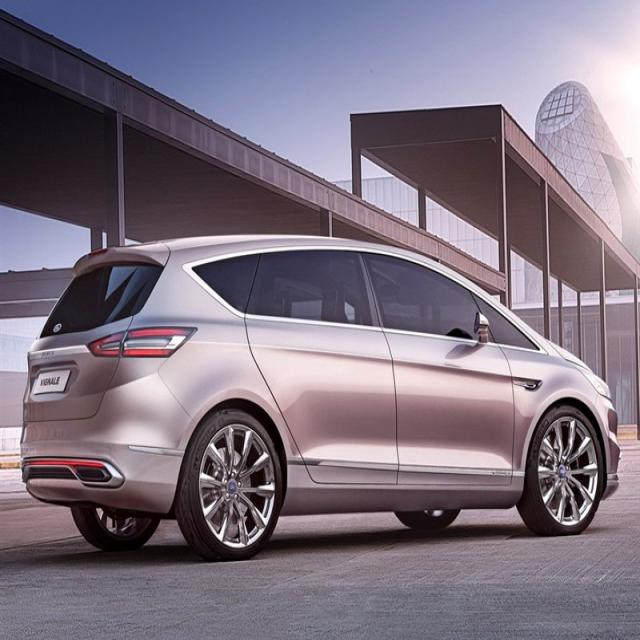back_glass: (38, 255, 167, 341)
back_right_side_light: (86, 325, 200, 360)
door: (242, 253, 401, 501)
front_right_side_door: (356, 239, 518, 497)
front_right_side_light: (568, 358, 614, 404)
front_right_side_mirror: (475, 307, 491, 345)
rear_bumper: (18, 374, 204, 514)
wheel: (177, 402, 286, 560), (518, 402, 607, 538), (70, 502, 164, 553)
